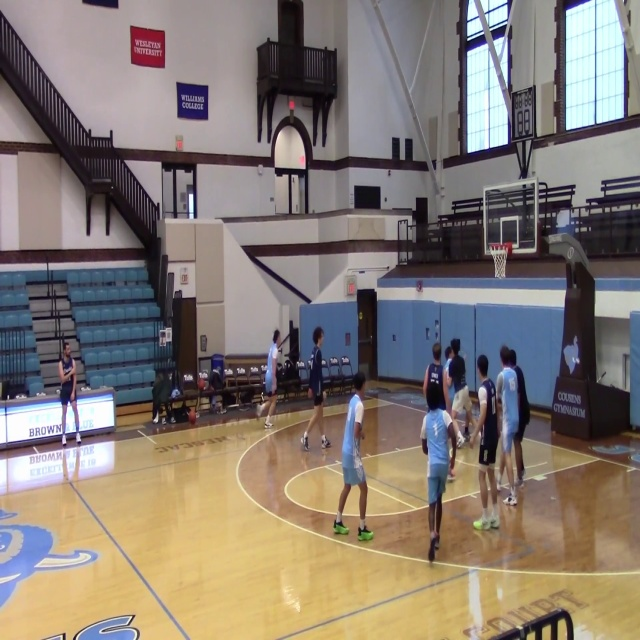Basketball: (288, 100, 295, 110)
